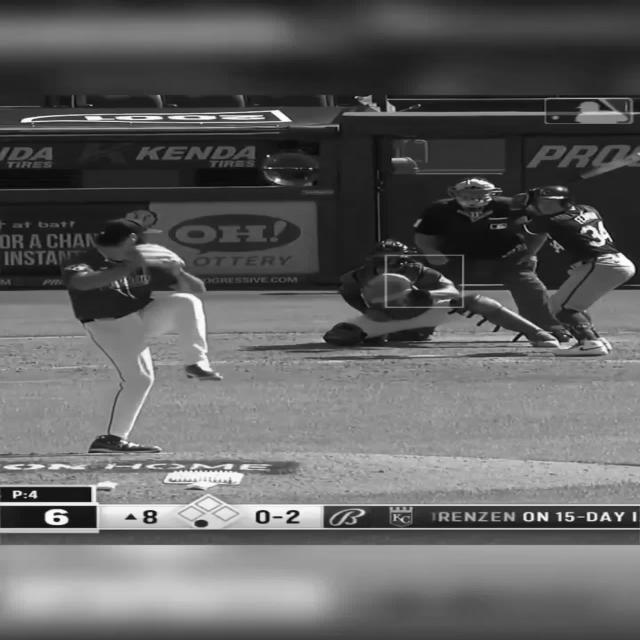baseball_glove: (359, 273, 412, 302), (133, 243, 186, 269)
shoe: (88, 434, 162, 454), (550, 336, 612, 356), (322, 322, 366, 346), (386, 328, 433, 341), (184, 364, 222, 380), (528, 330, 559, 347), (549, 328, 572, 342)
